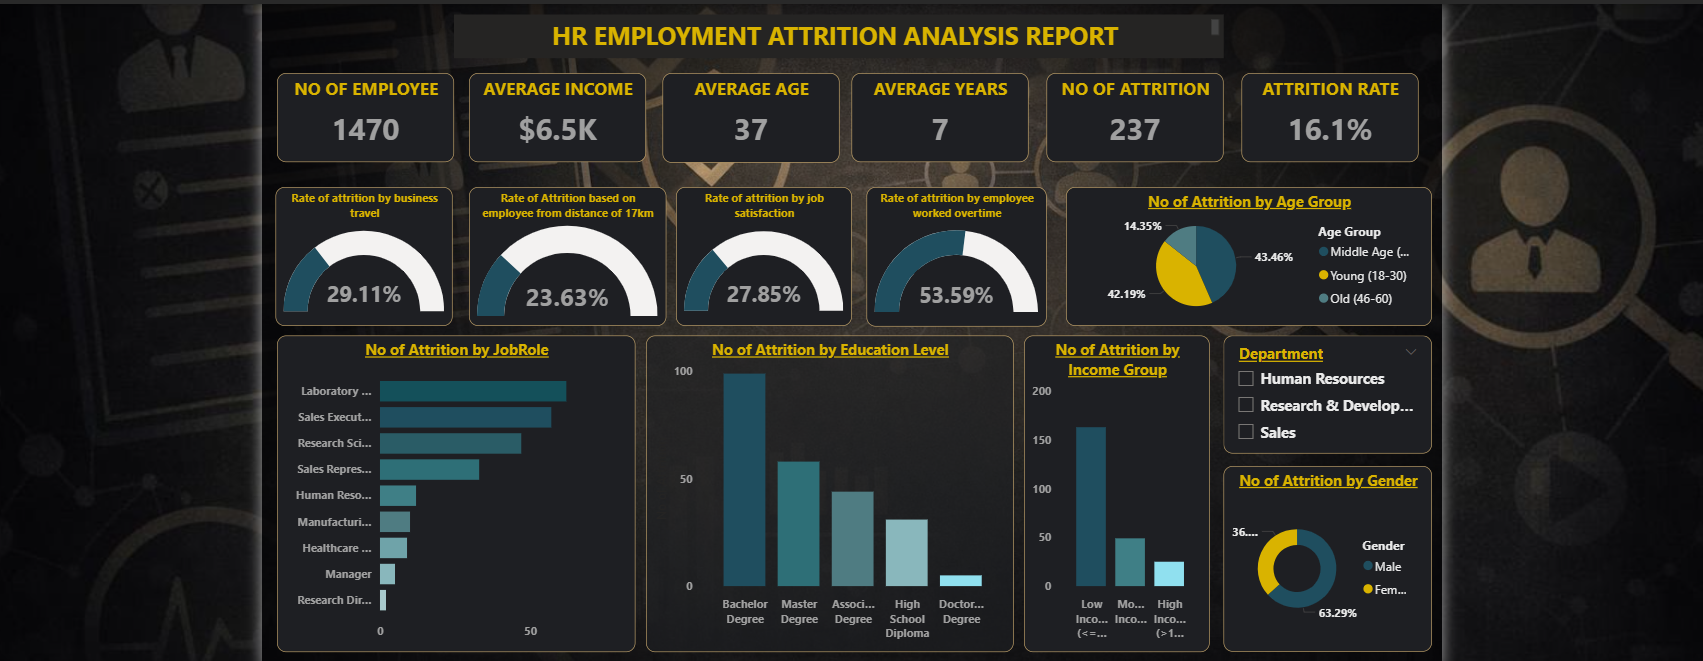

What the dashboard file says about the page in this screenshot:
{"tool":"powerbi","page":{"name":"Page 1","canvas":[1280,720],"ordinal":0},"visuals":[{"type":"card","title":"NO OF EMPLOYEE","fields":{"Values":["HR Attrition Data.Total Employees"]},"box":[16.9,75.4,192.3,96.9],"z":0},{"type":"card","title":"AVERAGE INCOME","fields":{"Values":["HR Attrition Data.Average Income"]},"box":[224.6,75.4,192.3,96.9],"z":1000},{"type":"card","title":"AVERAGE AGE","fields":{"Values":["HR Attrition Data.Average Age"]},"box":[434.3,74.8,191.9,97.6],"z":2000},{"type":"card","title":"AVERAGE YEARS","fields":{"Values":["HR Attrition Data.Average Year at Company"]},"box":[640,75.4,192.3,96.9],"z":3000},{"type":"card","title":"NO OF ATTRITION","fields":{"Values":["HR Attrition Data.No of Attrition"]},"box":[850.8,75.4,192.3,96.9],"z":4000},{"type":"card","title":"ATTRITION RATE","fields":{"Values":["HR Attrition Data.Attrition Rate"]},"box":[1061.5,75.4,192,96.9],"z":5000},{"type":"gauge","fields":{"Y":["HR Attrition Data.Rate of attrition by business travel"]},"box":[15.4,198.5,192.3,150.8],"z":6000},{"type":"gauge","title":"Rate of Attrition based on employee from distance of 17km","fields":{"Y":["HR Attrition Data.Rate of Attrition based on employee from distance 17km"]},"box":[224.6,198.5,213.8,150.8],"z":7000},{"type":"gauge","fields":{"Y":["HR Attrition Data.Rate of attrition by employee worked overtime"]},"box":[655.5,198.4,195.2,151.3],"z":8000},{"type":"gauge","fields":{"Y":["HR Attrition Data.Rate of attrition by job satisfaction"]},"box":[449.2,198.5,190.8,150.8],"z":9000},{"type":"clusteredBarChart","fields":{"Y":["HR Attrition Data.No of Attrition"],"Category":["HR Attrition Data.JobRole"]},"box":[16.3,359.5,388.7,343.2],"z":10000},{"type":"donutChart","fields":{"Y":["HR Attrition Data.No of Attrition"],"Category":["HR Attrition Data.Gender"]},"box":[1043.1,501.5,226.2,201.5],"z":11000},{"type":"clusteredColumnChart","fields":{"Y":["HR Attrition Data.No of Attrition"],"Category":["HR Attrition Data.Education Level"]},"box":[416.9,360,398.5,343.1],"z":12000},{"type":"pieChart","fields":{"Y":["HR Attrition Data.No of Attrition"],"Category":["HR Attrition Data.Age Group"]},"box":[872.3,198.5,396.9,150.8],"z":13000},{"type":"columnChart","fields":{"Y":["HR Attrition Data.No of Attrition"],"Category":["HR Attrition Data.Income Group"]},"box":[826.2,360,201.5,343.1],"z":14000},{"type":"slicer","fields":{"Values":["HR Attrition Data.Department"]},"box":[1043.1,360,226.2,127.7],"z":15000},{"type":"textbox","box":[208.2,11.4,834.4,47.2],"z":16000}]}

Visuals, with their boxes on the page's 1280x720 design canvas (x1, y1, x2, y2). These are canvas units, not pixel positions in the 1703x661 screenshot, which may show the page scaled, cropped or inside an application window:
"NO OF EMPLOYEE" card: (x1=17, y1=75, x2=209, y2=172)
"AVERAGE INCOME" card: (x1=225, y1=75, x2=417, y2=172)
"AVERAGE AGE" card: (x1=434, y1=75, x2=626, y2=172)
"AVERAGE YEARS" card: (x1=640, y1=75, x2=832, y2=172)
"NO OF ATTRITION" card: (x1=851, y1=75, x2=1043, y2=172)
"ATTRITION RATE" card: (x1=1062, y1=75, x2=1254, y2=172)
gauge - HR Attrition Data.Rate of attrition by business travel: (x1=15, y1=198, x2=208, y2=349)
"Rate of Attrition based on employee from distance of 17km" gauge: (x1=225, y1=198, x2=438, y2=349)
gauge - HR Attrition Data.Rate of attrition by employee worked overtime: (x1=656, y1=198, x2=851, y2=350)
gauge - HR Attrition Data.Rate of attrition by job satisfaction: (x1=449, y1=198, x2=640, y2=349)
clusteredBarChart - HR Attrition Data.No of Attrition x HR Attrition Data.JobRole: (x1=16, y1=360, x2=405, y2=703)
donutChart - HR Attrition Data.No of Attrition x HR Attrition Data.Gender: (x1=1043, y1=502, x2=1269, y2=703)
clusteredColumnChart - HR Attrition Data.No of Attrition x HR Attrition Data.Education Level: (x1=417, y1=360, x2=815, y2=703)
pieChart - HR Attrition Data.No of Attrition x HR Attrition Data.Age Group: (x1=872, y1=198, x2=1269, y2=349)
columnChart - HR Attrition Data.No of Attrition x HR Attrition Data.Income Group: (x1=826, y1=360, x2=1028, y2=703)
slicer - HR Attrition Data.Department: (x1=1043, y1=360, x2=1269, y2=488)
textbox: (x1=208, y1=11, x2=1043, y2=59)
